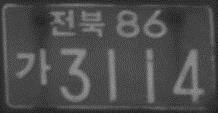1: (143, 48, 158, 106), (105, 46, 119, 102)
3: (59, 45, 91, 103)
4: (172, 48, 205, 105)
6: (142, 8, 169, 39)
8: (116, 9, 140, 38)
가: (15, 47, 52, 86)
전북_O: (48, 8, 104, 38)
